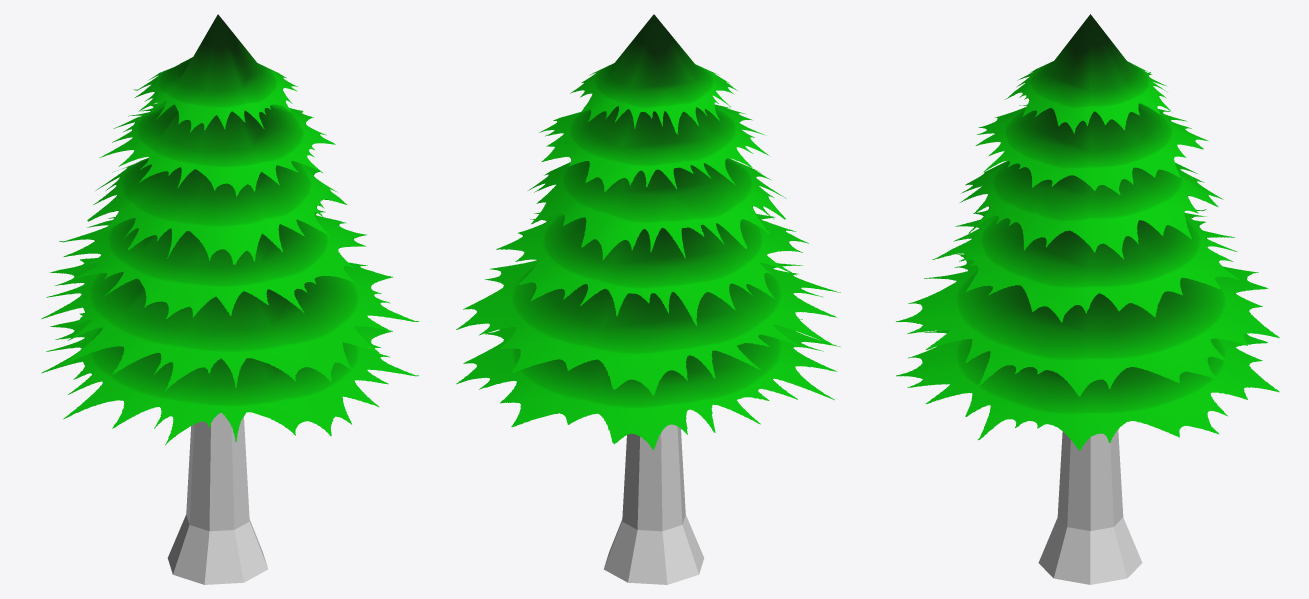
Rendered from TreeStarter.fbx.
The picture shows the model from 3 angles, left to right: view 1: azimuth 30°, elevation 25°; view 2: azimuth 150°, elevation 25°; view 3: azimuth 270°, elevation 25°; orthographic projection.
Parts seen in each view (by area): view 1: Plane, Cylinder; view 2: Plane, Cylinder; view 3: Plane, Cylinder.
Part boxes in pixels (x1,y1,x2,y2): Plane: [41, 14, 419, 445]; Cylinder: [167, 413, 268, 584]; Plane: [456, 14, 840, 449]; Cylinder: [603, 424, 704, 584]; Plane: [896, 14, 1279, 450]; Cylinder: [1038, 430, 1142, 584].
Size of the model in its own units: 5.43 by 5.43 by 8.06.
